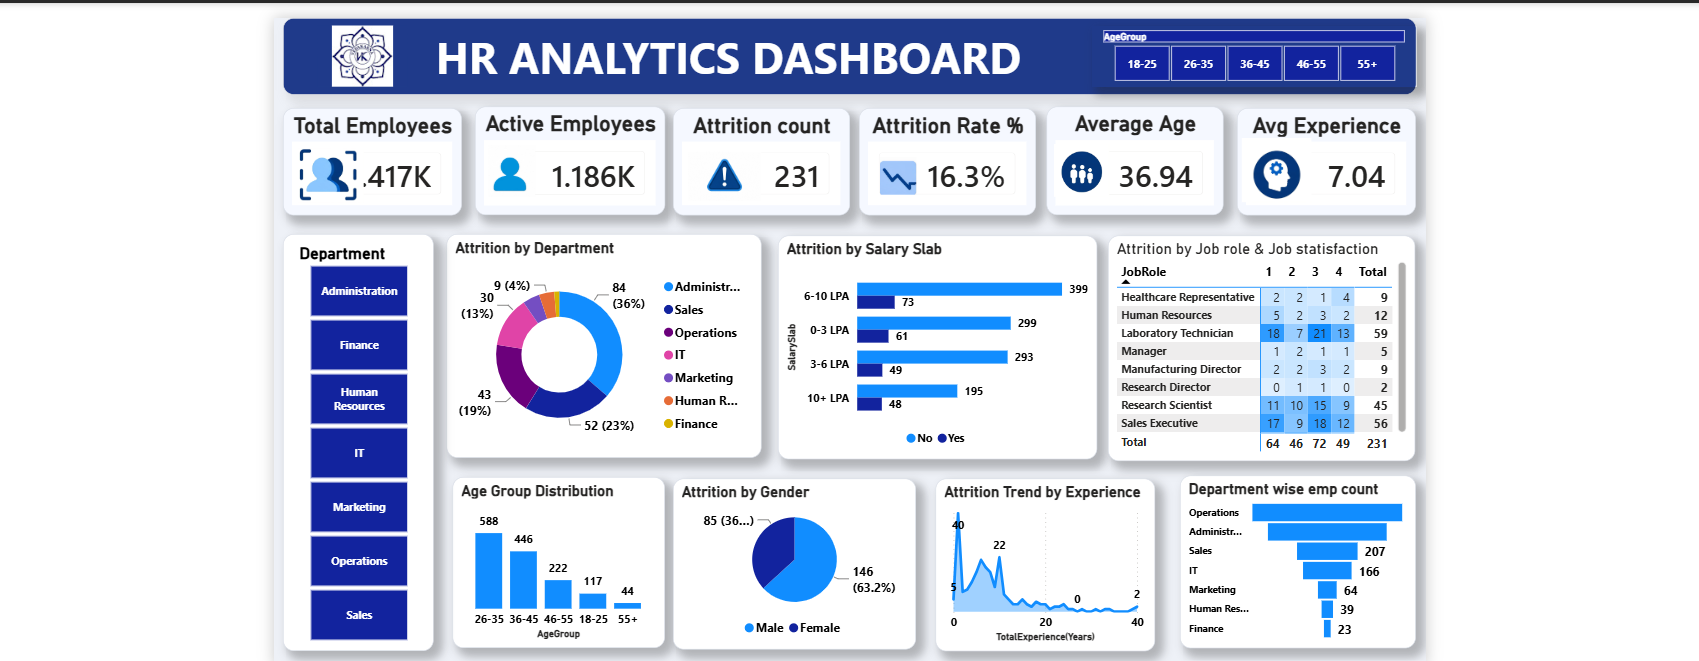

This screenshot's page, from the dashboard's own definition file:
{"tool":"powerbi","page":{"name":"Page 1","canvas":[1280,720],"ordinal":0},"visuals":[{"type":"textbox","box":[10,0,1259,85],"z":0},{"type":"image","box":[49.1,7.6,100.2,68],"z":1000},{"type":"cardVisual","title":"Total Employees","fields":{"Data":["CountNonNull(HR_Analytics-4.EmpID)"]},"box":[9.4,100.2,198.4,119.1],"z":2000},{"type":"cardVisual","title":"Active Employees","fields":{"Data":["CountNonNull(HR_Analytics-4.EmployeeCount)"]},"box":[223,98.3,211.7,120.9],"z":3000},{"type":"cardVisual","title":"Attrition count","fields":{"Data":["Sum(HR_Analytics-4.AttritionCount)"]},"box":[444.1,100.2,196.5,119.1],"z":4000},{"type":"cardVisual","title":"Attrition Rate %","fields":{"Data":["HR_Analytics-4.Attrition Rate %"]},"box":[650.1,100.2,196.5,119.1],"z":5000},{"type":"cardVisual","title":"Average Age","fields":{"Data":["Avg(HR_Analytics-4.Age)"]},"box":[858,98.3,196.5,120.9],"z":6000},{"type":"cardVisual","title":"Avg Experience","fields":{"Data":["Avg(HR_Analytics-4.YearsatCompany)"]},"box":[1069.6,100.2,198.4,119.1],"z":7000},{"type":"image","box":[460.3,146.4,81.3,58.6],"z":8000},{"type":"image","box":[673.4,151.3,40.7,47.2],"z":9000},{"type":"image","box":[239.1,135,52,69.9],"z":10000},{"type":"image","box":[17.9,144.8,89.5,60.2],"z":11000},{"type":"image","box":[1070.3,133.4,87.8,71.6],"z":12000},{"type":"image","box":[857.2,139.9,81.3,58.6],"z":13000},{"type":"donutChart","title":"Attrition by Department","fields":{"Category":["HR_Analytics-4.Department"],"Y":["Sum(HR_Analytics-4.AttritionCount)"]},"box":[191.9,240.7,349.7,248.9],"z":14000},{"type":"clusteredBarChart","title":"Attrition by Salary Slab","fields":{"Category":["HR_Analytics-4.SalarySlab"],"Y":["CountNonNull(HR_Analytics-4.EmpID)"],"Series":["HR_Analytics-4.Attrition"]},"box":[559.5,242.4,354.6,248.9],"z":15000},{"type":"pivotTable","title":"Attrition by Job role & Job statisfaction","fields":{"Rows":["HR_Analytics-4.JobRole"],"Columns":["HR_Analytics-4.JobSatisfaction"],"Values":["Sum(HR_Analytics-4.AttritionCount)"]},"box":[927.1,242.4,341.6,250.5],"z":16000},{"type":"columnChart","title":"Age Group Distribution","fields":{"Category":["HR_Analytics-4.AgeGroup"],"Y":["Sum(HR_Analytics-4.EmployeeCount)"]},"box":[198.4,510.7,235.8,190.3],"z":17000},{"type":"pieChart","title":"Attrition by Gender","fields":{"Category":["HR_Analytics-4.Gender"],"Y":["Sum(HR_Analytics-4.AttritionCount)"]},"box":[444,512.4,270,190.3],"z":18000},{"type":"areaChart","title":"Attrition Trend by Experience","fields":{"Category":["HR_Analytics-4.TotalExperience(Years)"],"Y":["Sum(HR_Analytics-4.AttritionCount)"]},"box":[735.2,512.4,244,191.9],"z":19000},{"type":"funnel","title":"Department wise emp count","fields":{"Category":["HR_Analytics-4.Department"],"Y":["CountNonNull(HR_Analytics-4.EmpID)"]},"box":[1006.8,509.1,261.9,191.9],"z":20000},{"type":"slicer","fields":{"Values":["HR_Analytics-4.Department"]},"box":[9.8,240.7,167.5,463.6],"z":21000},{"type":"slicer","fields":{"Values":["HR_Analytics-4.AgeGroup"]},"box":[907.6,8.1,361.1,68.3],"z":22000}]}

Visuals, with their boxes on the page's 1280x720 design canvas (x1, y1, x2, y2). These are canvas units, not pixel positions in the 1699x661 screenshot, which may show the page scaled, cropped or inside an application window:
textbox: pyautogui.locateOnScreen(10, 0, 1269, 85)
image: pyautogui.locateOnScreen(49, 8, 149, 76)
"Total Employees" cardVisual: pyautogui.locateOnScreen(9, 100, 208, 219)
"Active Employees" cardVisual: pyautogui.locateOnScreen(223, 98, 435, 219)
"Attrition count" cardVisual: pyautogui.locateOnScreen(444, 100, 641, 219)
"Attrition Rate %" cardVisual: pyautogui.locateOnScreen(650, 100, 847, 219)
"Average Age" cardVisual: pyautogui.locateOnScreen(858, 98, 1054, 219)
"Avg Experience" cardVisual: pyautogui.locateOnScreen(1070, 100, 1268, 219)
image: pyautogui.locateOnScreen(460, 146, 542, 205)
image: pyautogui.locateOnScreen(673, 151, 714, 198)
image: pyautogui.locateOnScreen(239, 135, 291, 205)
image: pyautogui.locateOnScreen(18, 145, 107, 205)
image: pyautogui.locateOnScreen(1070, 133, 1158, 205)
image: pyautogui.locateOnScreen(857, 140, 938, 198)
"Attrition by Department" donutChart: pyautogui.locateOnScreen(192, 241, 542, 490)
"Attrition by Salary Slab" clusteredBarChart: pyautogui.locateOnScreen(560, 242, 914, 491)
"Attrition by Job role & Job statisfaction" pivotTable: pyautogui.locateOnScreen(927, 242, 1269, 493)
"Age Group Distribution" columnChart: pyautogui.locateOnScreen(198, 511, 434, 701)
"Attrition by Gender" pieChart: pyautogui.locateOnScreen(444, 512, 714, 703)
"Attrition Trend by Experience" areaChart: pyautogui.locateOnScreen(735, 512, 979, 704)
"Department wise emp count" funnel: pyautogui.locateOnScreen(1007, 509, 1269, 701)
slicer - HR_Analytics-4.Department: pyautogui.locateOnScreen(10, 241, 177, 704)
slicer - HR_Analytics-4.AgeGroup: pyautogui.locateOnScreen(908, 8, 1269, 76)
